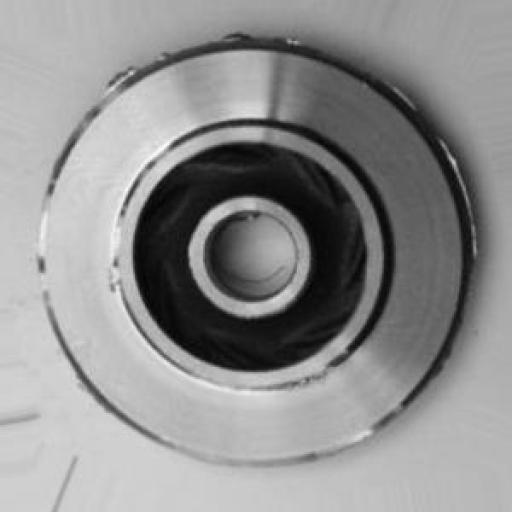defect: (26, 36, 491, 476)
